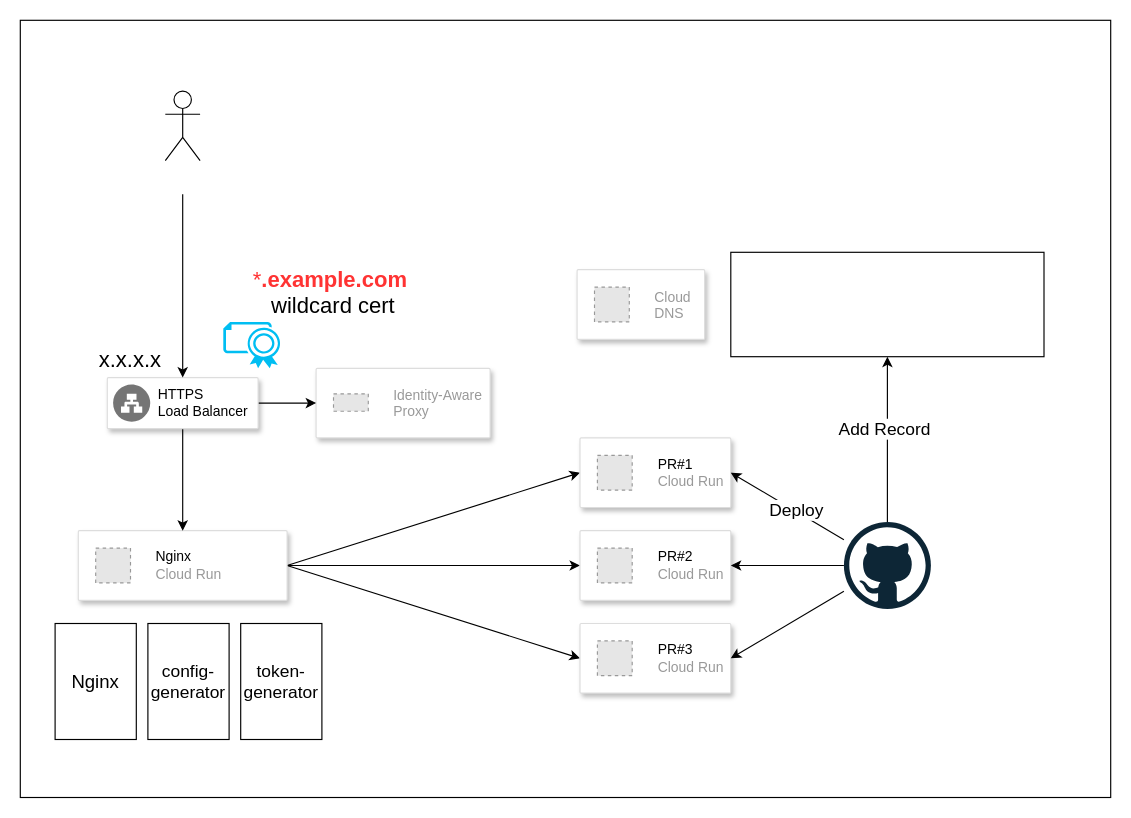
This 1131x818 diagram has some shape labels left out. Grey dashed boxes stand in for pictures. The centre of each missing label's shape, as x and y in pixels:
"Developer" belongs at [182,125].
"XXXXXX.example.com x.x.x.x YYYYYY.example.com x.x.x.x ZZZZZZ.example.com x.x.x.x" belongs at [887,304].
